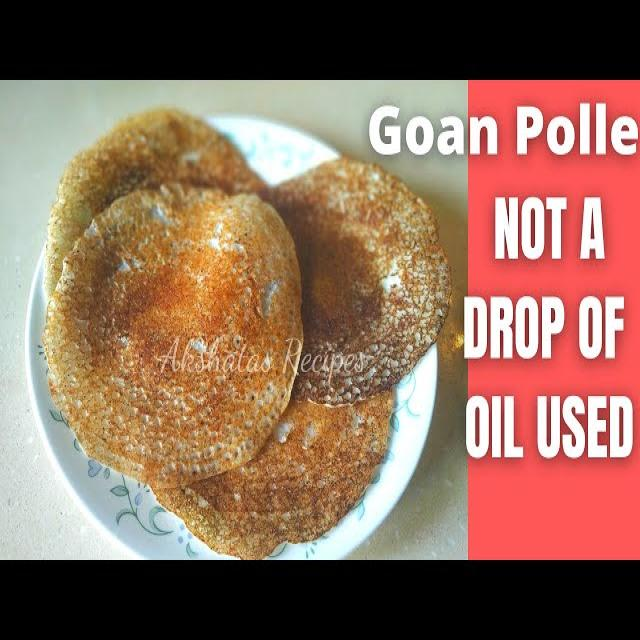DOSA: (44, 181, 302, 493), (261, 157, 450, 404), (151, 391, 393, 557), (46, 108, 265, 289)
